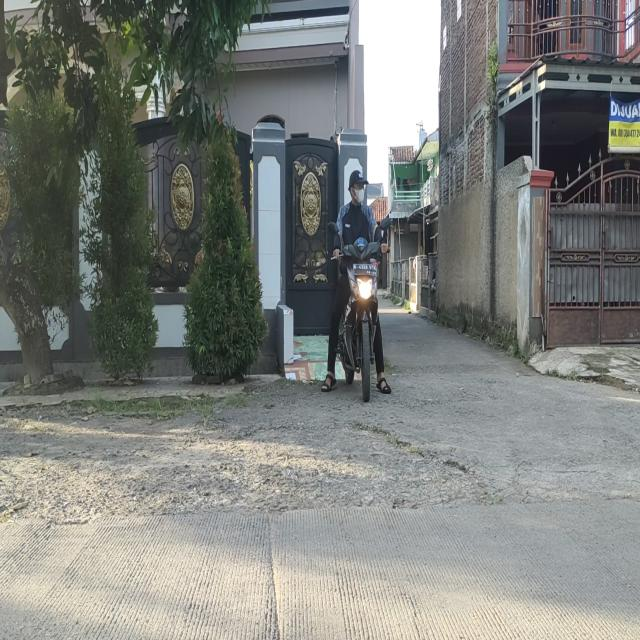no-helmet: (348, 170, 370, 202)
